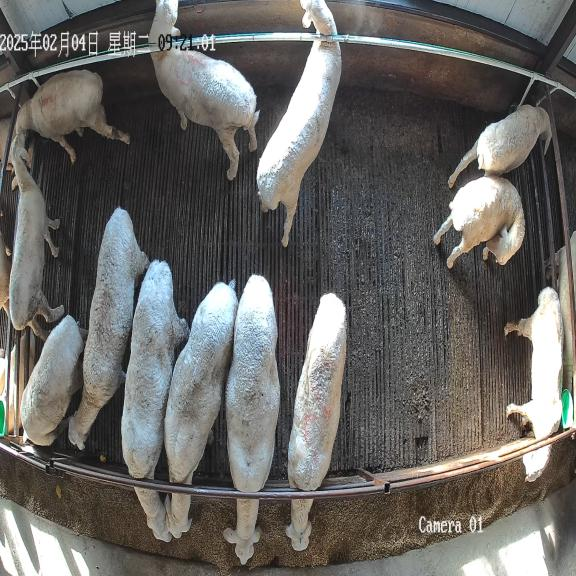drinking: (15, 70, 130, 163), (448, 105, 551, 188)
eating: (161, 281, 238, 537), (121, 260, 189, 542), (225, 274, 280, 568), (285, 293, 346, 551), (504, 287, 563, 481)
stand: (256, 0, 341, 246), (148, 0, 259, 180), (69, 207, 149, 450), (9, 136, 64, 340), (20, 315, 87, 446), (433, 176, 525, 268)
